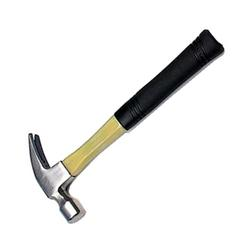hammer: (26, 27, 224, 224)
